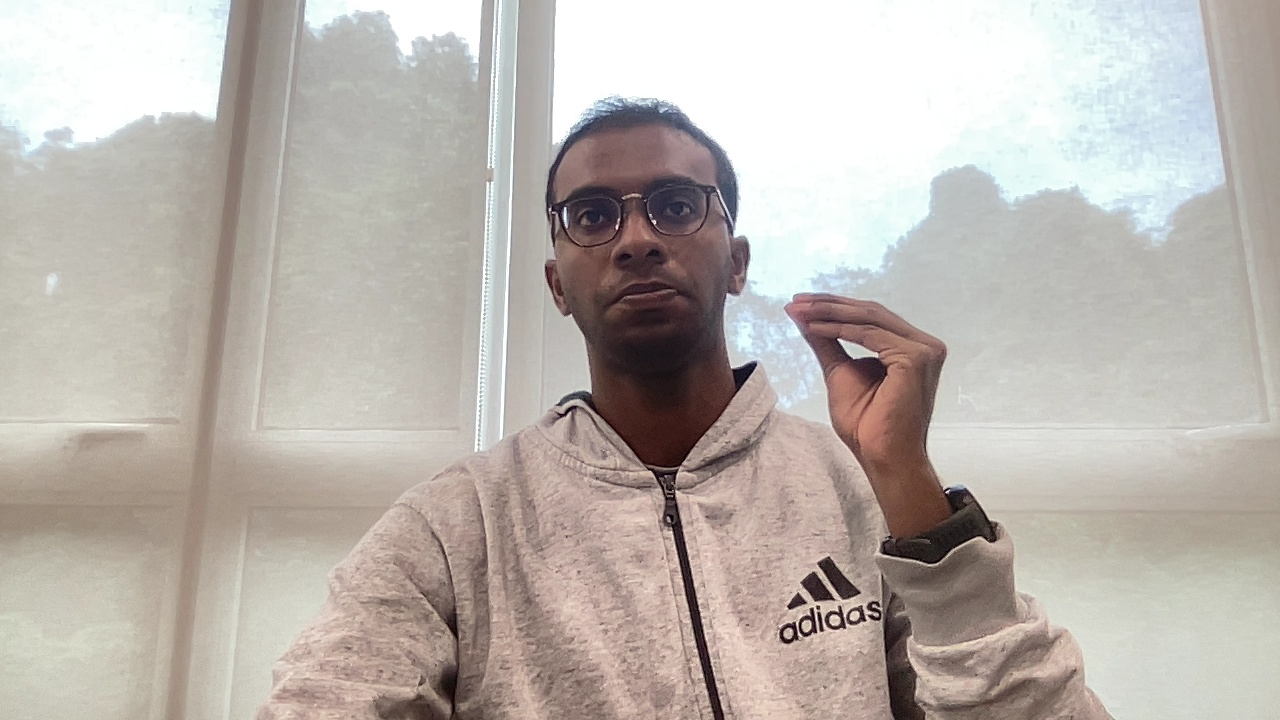eat: (774, 287, 960, 492)
